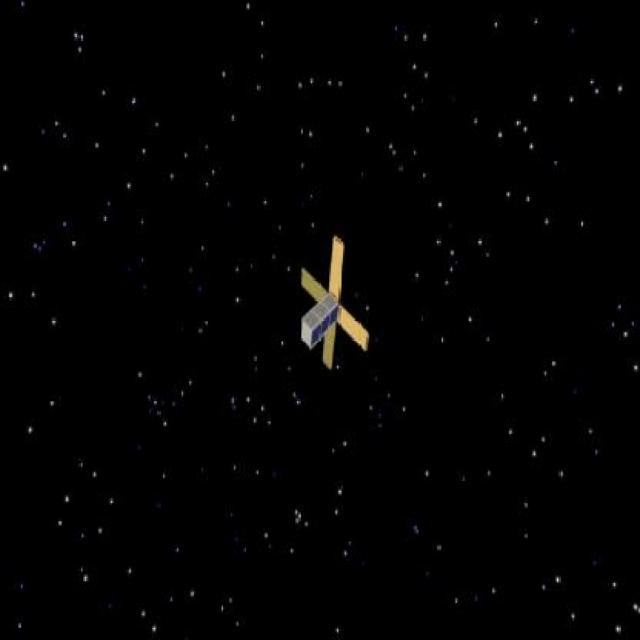satellite: (273, 233, 383, 373)
